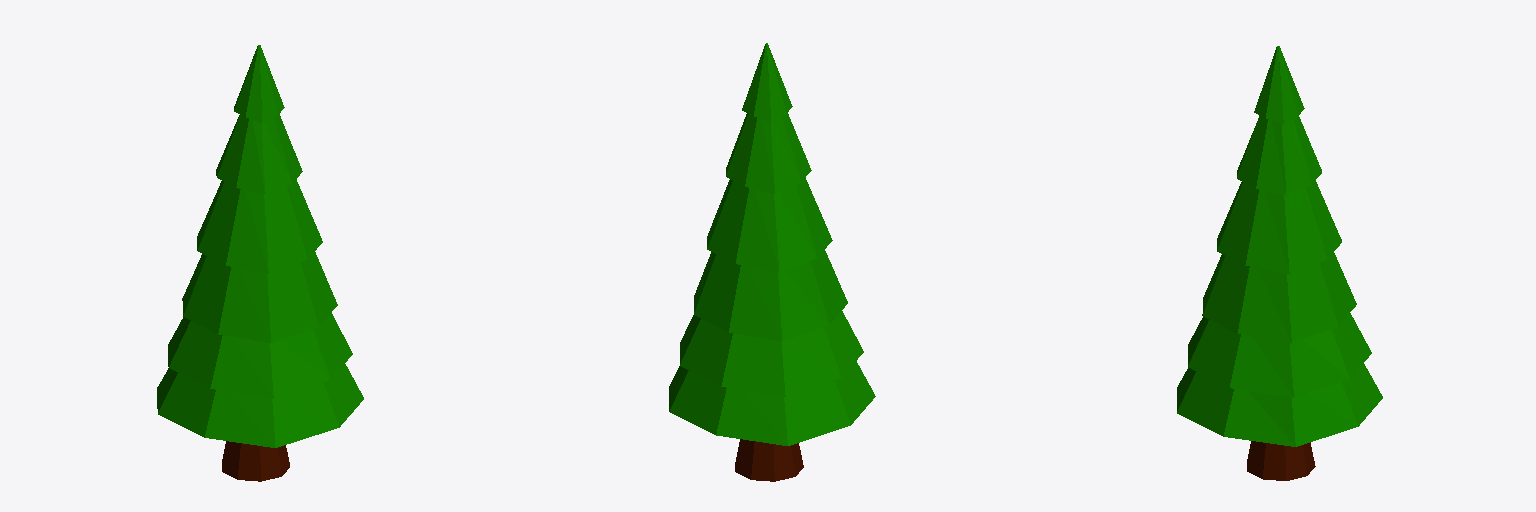
Rendered from pine_low.obj.
3 views of the same model, side by side, from view 1: azimuth 30°, elevation 25°; view 2: azimuth 150°, elevation 25°; view 3: azimuth 270°, elevation 25° (orthographic).
Visible parts, largest first — view 1: Cylinder; view 2: Cylinder; view 3: Cylinder.
Boxes of the visible parts, x1=… form: Cylinder: x1=157, y1=45, x2=363, y2=481; Cylinder: x1=669, y1=43, x2=875, y2=481; Cylinder: x1=1177, y1=46, x2=1382, y2=480.
Size of the model in its own units: 90.77 by 202 by 89.61.